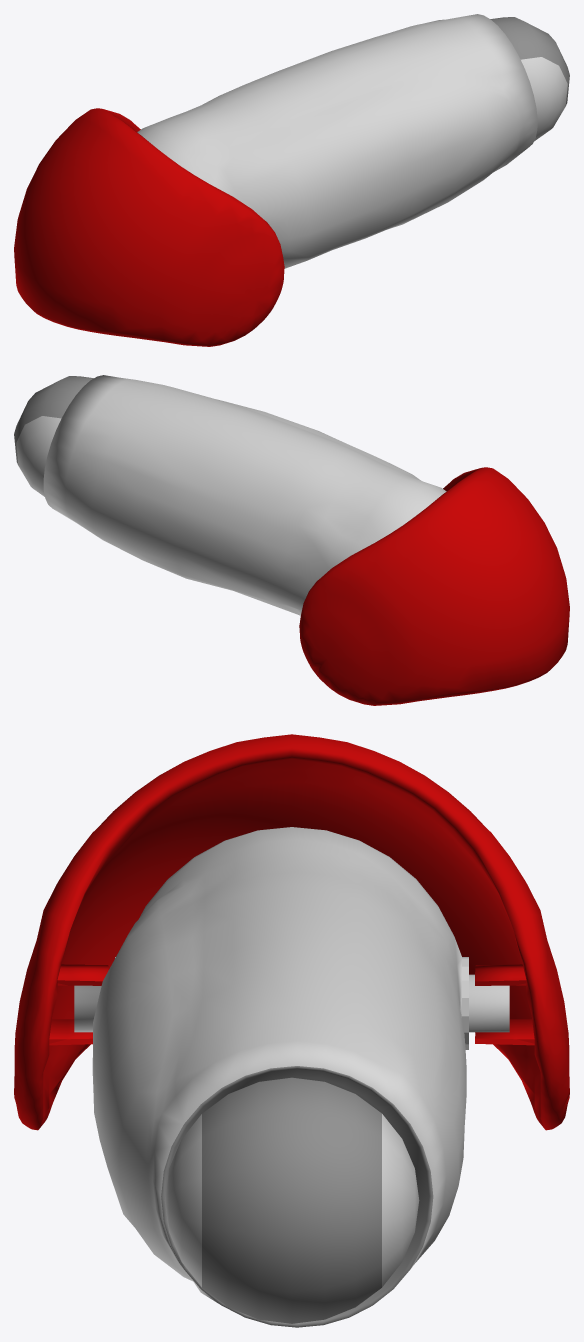
Rendered from LShoulderRoll.dae.
3 views of the same model, one above another, from view 1: azimuth 30°, elevation 25°; view 2: azimuth 150°, elevation 25°; view 3: azimuth 270°, elevation 25° (orthographic). The views are drawn at different scales.
Visible parts, largest first — view 1: root_012; view 2: root_012; view 3: root_012.
Part boxes in pixels (x1,y1,x2,y2): root_012: [14, 14, 569, 346]; root_012: [14, 375, 569, 705]; root_012: [14, 734, 569, 1327].
Bounding box in the file's own units: 170 × 81.69 × 60.
